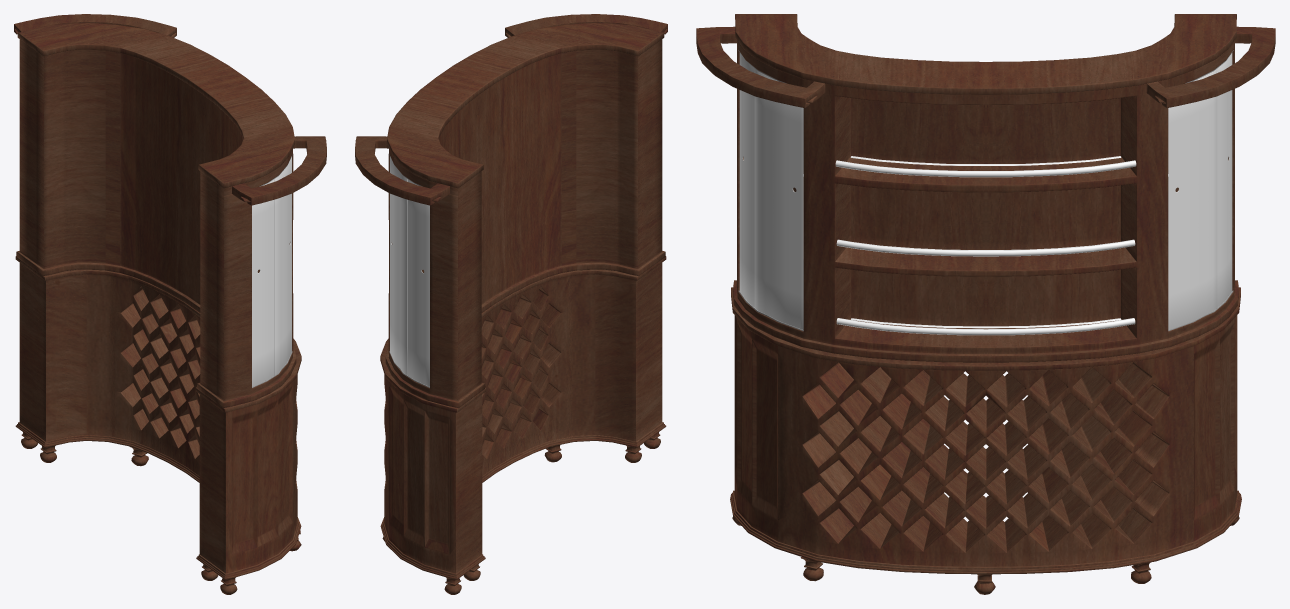
Rendered from alcoholCabinet.fbx.
3 renders of one model, left to right at view 1: azimuth 30°, elevation 25°; view 2: azimuth 150°, elevation 25°; view 3: azimuth 270°, elevation 25°, orthographic. The views are drawn at different scales.
Parts seen in each view (by area): view 1: Cristalleira, Adega, PortaVidro, pé; view 2: Cristalleira, Adega, PortaVidro, pé; view 3: Cristalleira, Adega, PortaVidro, Barra, Fita, pé.
Boxes of the visible parts, <box> form: Cristalleira: <box>14,14,326,408</box>; Adega: <box>15,256,301,579</box>; PortaVidro: <box>252,156,291,386</box>; pé: <box>21,432,301,594</box>; Cristalleira: <box>355,14,667,408</box>; Adega: <box>380,256,666,579</box>; PortaVidro: <box>390,156,429,386</box>; pé: <box>382,432,660,594</box>; Cristalleira: <box>696,14,1275,362</box>; Adega: <box>730,287,1241,574</box>; PortaVidro: <box>739,53,1232,329</box>; Barra: <box>835,160,1136,335</box>; Fita: <box>850,156,1121,328</box>; pé: <box>732,516,1239,594</box>.
Size of the model in its own units: 77.19 by 229 by 238.
Materials: 8 (1 with a texture image).
